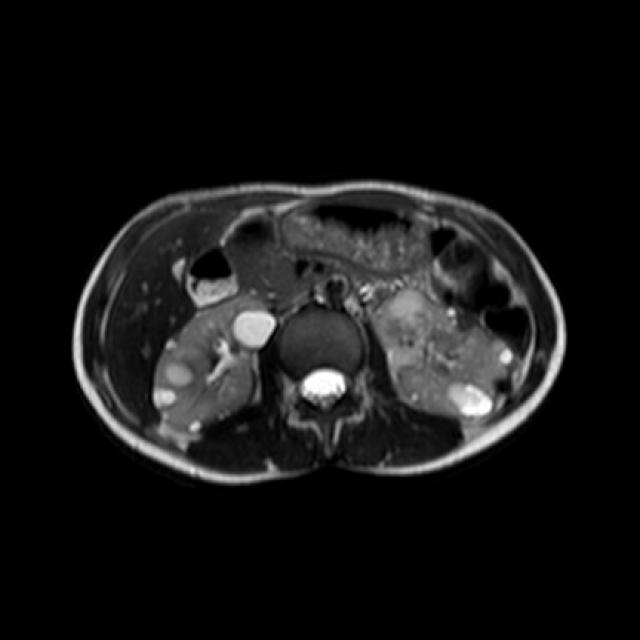sag: (154, 292, 276, 431)
sol: (374, 289, 515, 420)
